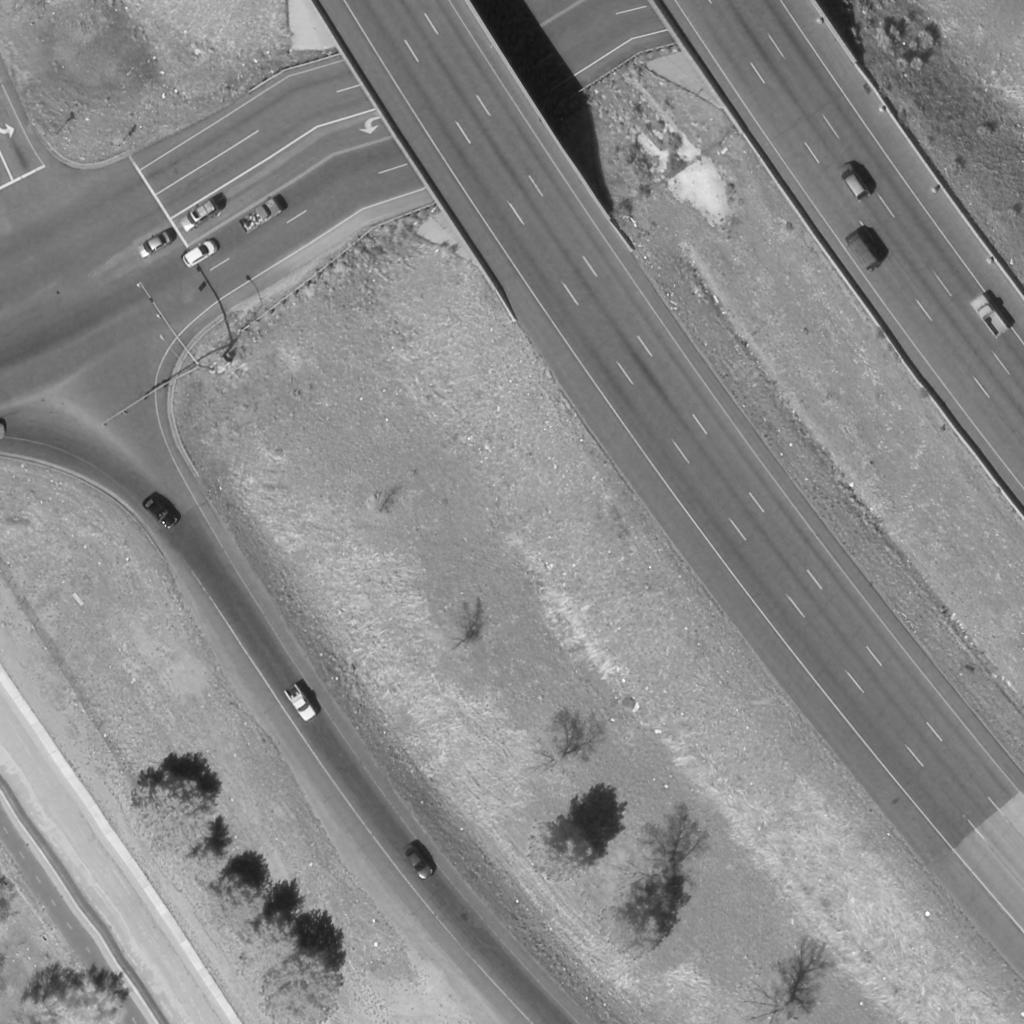vehicle: (280, 685, 320, 725), (843, 231, 881, 273), (972, 295, 1008, 339), (179, 199, 221, 233), (837, 162, 871, 202), (239, 200, 281, 232), (180, 240, 222, 270), (133, 231, 175, 259), (143, 495, 177, 529), (402, 845, 434, 881)
